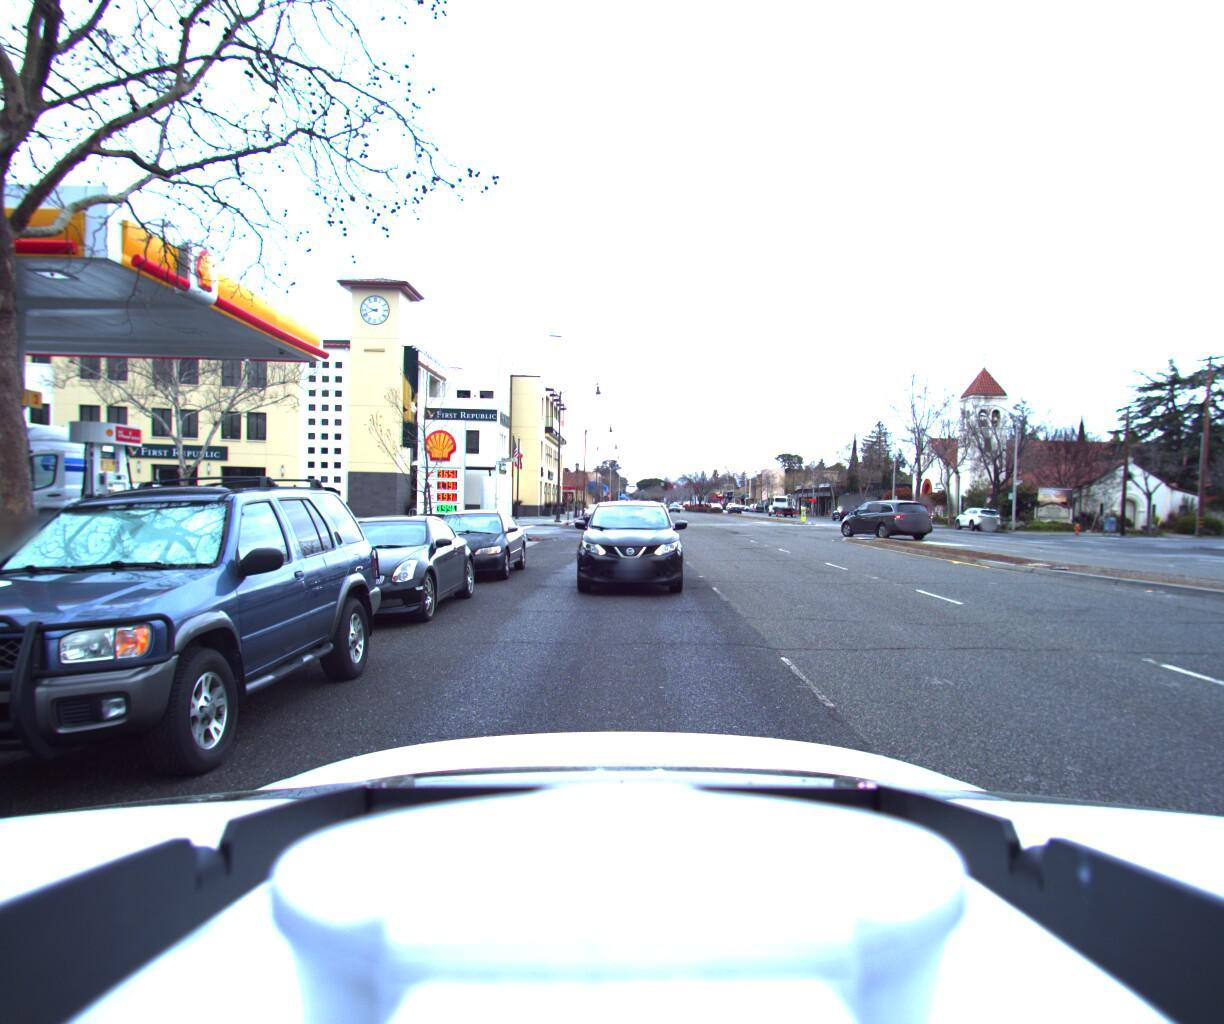car: (0, 433, 387, 849), (260, 510, 477, 637), (567, 498, 683, 605), (401, 506, 527, 591), (50, 479, 173, 531), (828, 497, 931, 544), (147, 490, 237, 534), (584, 504, 674, 532), (947, 509, 1003, 536), (579, 505, 602, 523)
truck: (0, 399, 130, 558)
